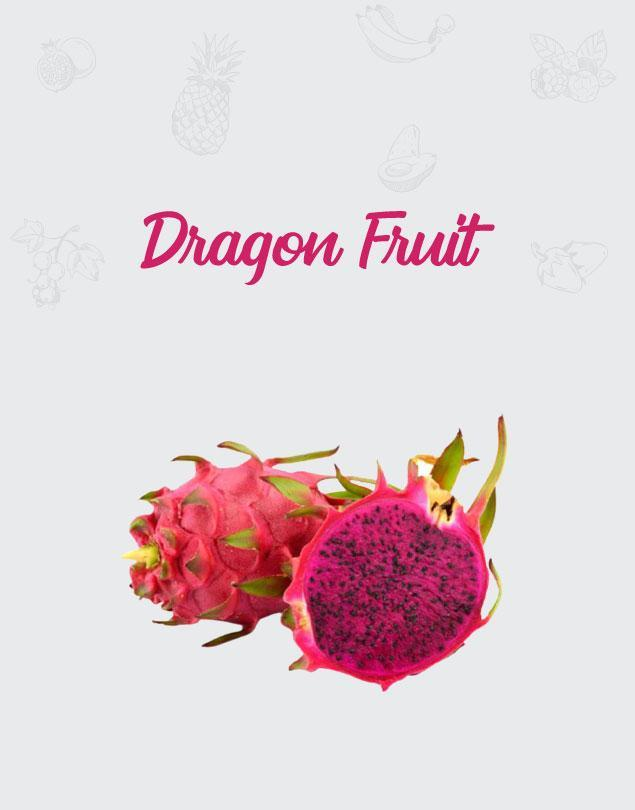dragon-fruit: (289, 490, 491, 690), (127, 460, 340, 627)
